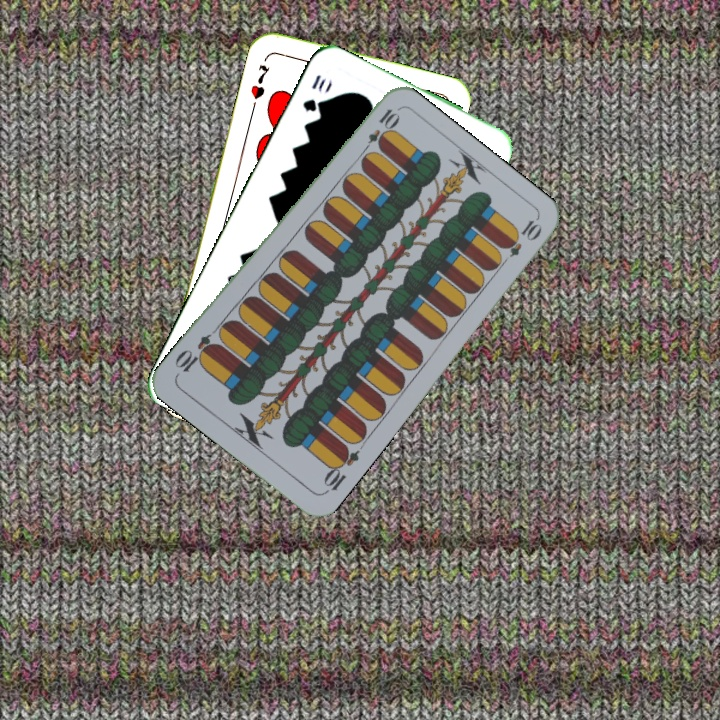E10: (319, 441, 362, 497), (357, 104, 400, 158)
G10: (298, 70, 328, 115)
H7: (246, 60, 272, 102)
